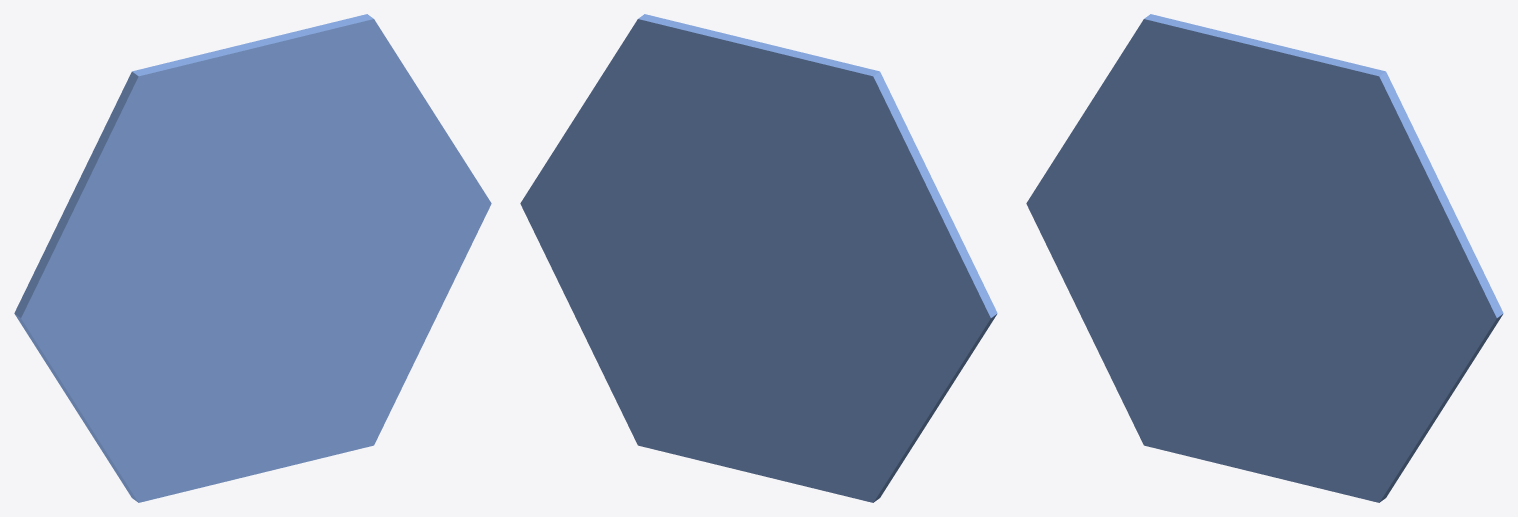
File: esagono.glb
3 views of the same model, side by side, from view 1: azimuth 30°, elevation 25°; view 2: azimuth 150°, elevation 25°; view 3: azimuth 330°, elevation 25° (orthographic).
Parts seen in each view (by area): view 1: esagono; view 2: esagono; view 3: esagono.
Boxes of the visible parts, x1=… form: esagono: x1=14, y1=14, x2=491, y2=502; esagono: x1=520, y1=14, x2=997, y2=502; esagono: x1=1026, y1=14, x2=1503, y2=502.
Size of the model in its own units: 2 by 1.73 by 0.05.
